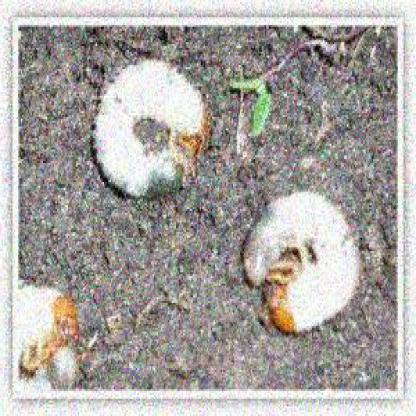root grubs: (91, 57, 216, 194), (241, 188, 357, 335)
